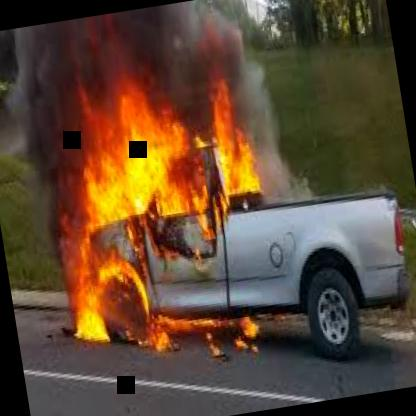fire: (25, 0, 416, 397)
